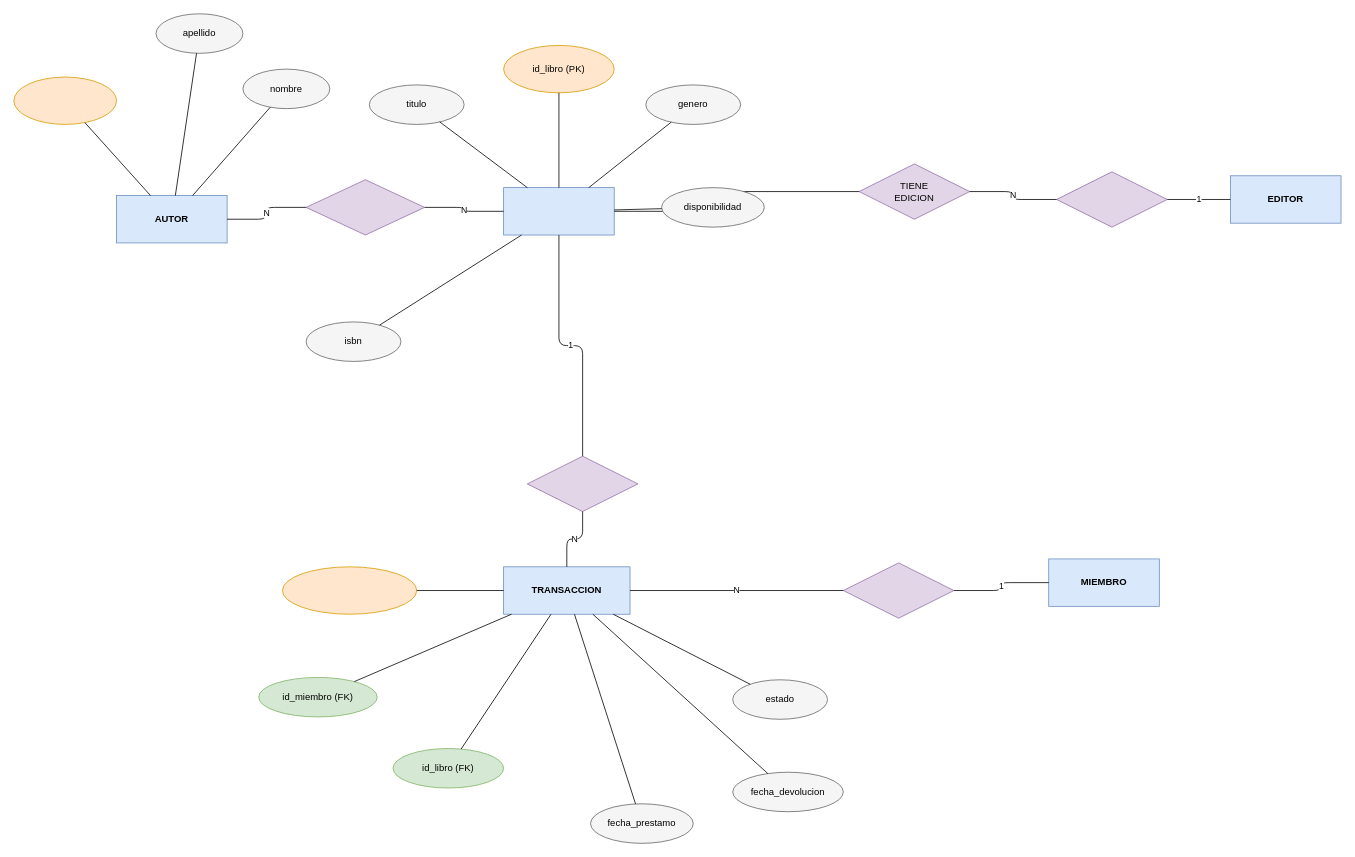
Some shapes in this 1355 by 857 pixel diagram are drawn without their labels. The shapes that lost their labels are listed below. From the top down, each one's centre as x and y in pixels, then its label:
At [65,100]: "id_autor (PK)".
At [365,207]: "ESCRIBE (libro_autor)".
At [558,211]: "LIBRO".
At [1111,199]: "PUBLICADO POR".
At [582,483]: "SE PRESTA".
At [349,590]: "id_transaccion (PK)".
At [898,590]: "REALIZA".
